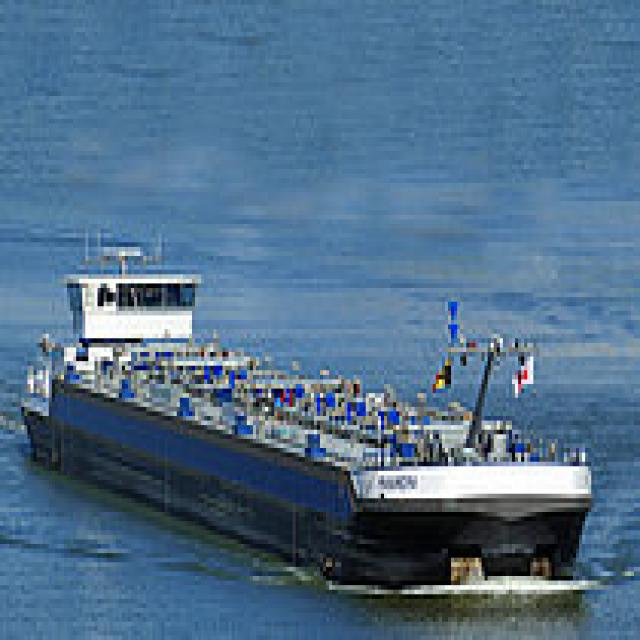Tanker: (15, 215, 591, 585)
